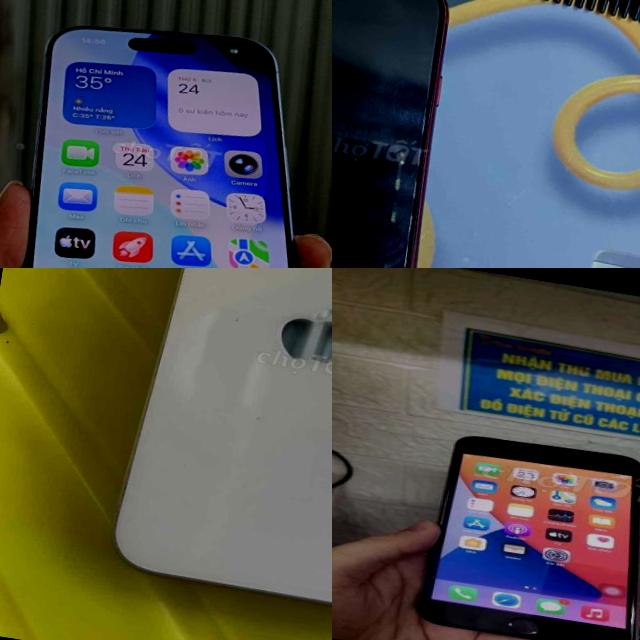gen_12_13: (94, 268, 332, 628)
gen_17: (0, 2, 332, 268)
gen_6: (404, 423, 640, 640)
gen_7_8: (332, 0, 478, 268)
